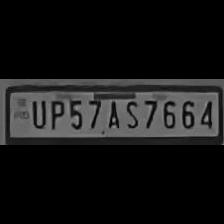4: (197, 97, 215, 128)
5: (65, 96, 84, 130)
6: (159, 97, 177, 129), (178, 97, 196, 128)
7: (85, 96, 103, 130), (140, 96, 158, 130)
A: (102, 97, 122, 129)
P: (46, 97, 64, 130)
S: (123, 97, 141, 129)
U: (28, 96, 46, 130)
